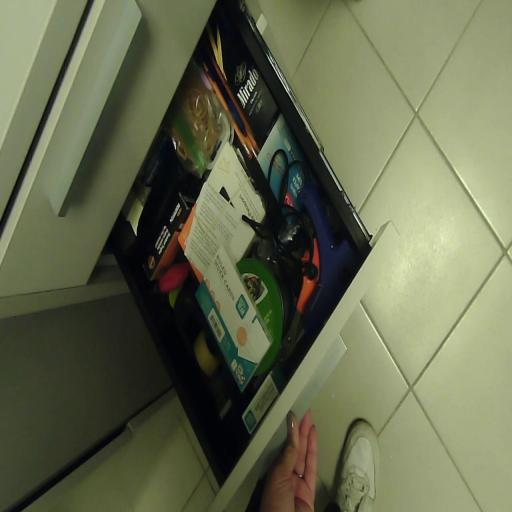pen: (216, 82, 247, 136)
